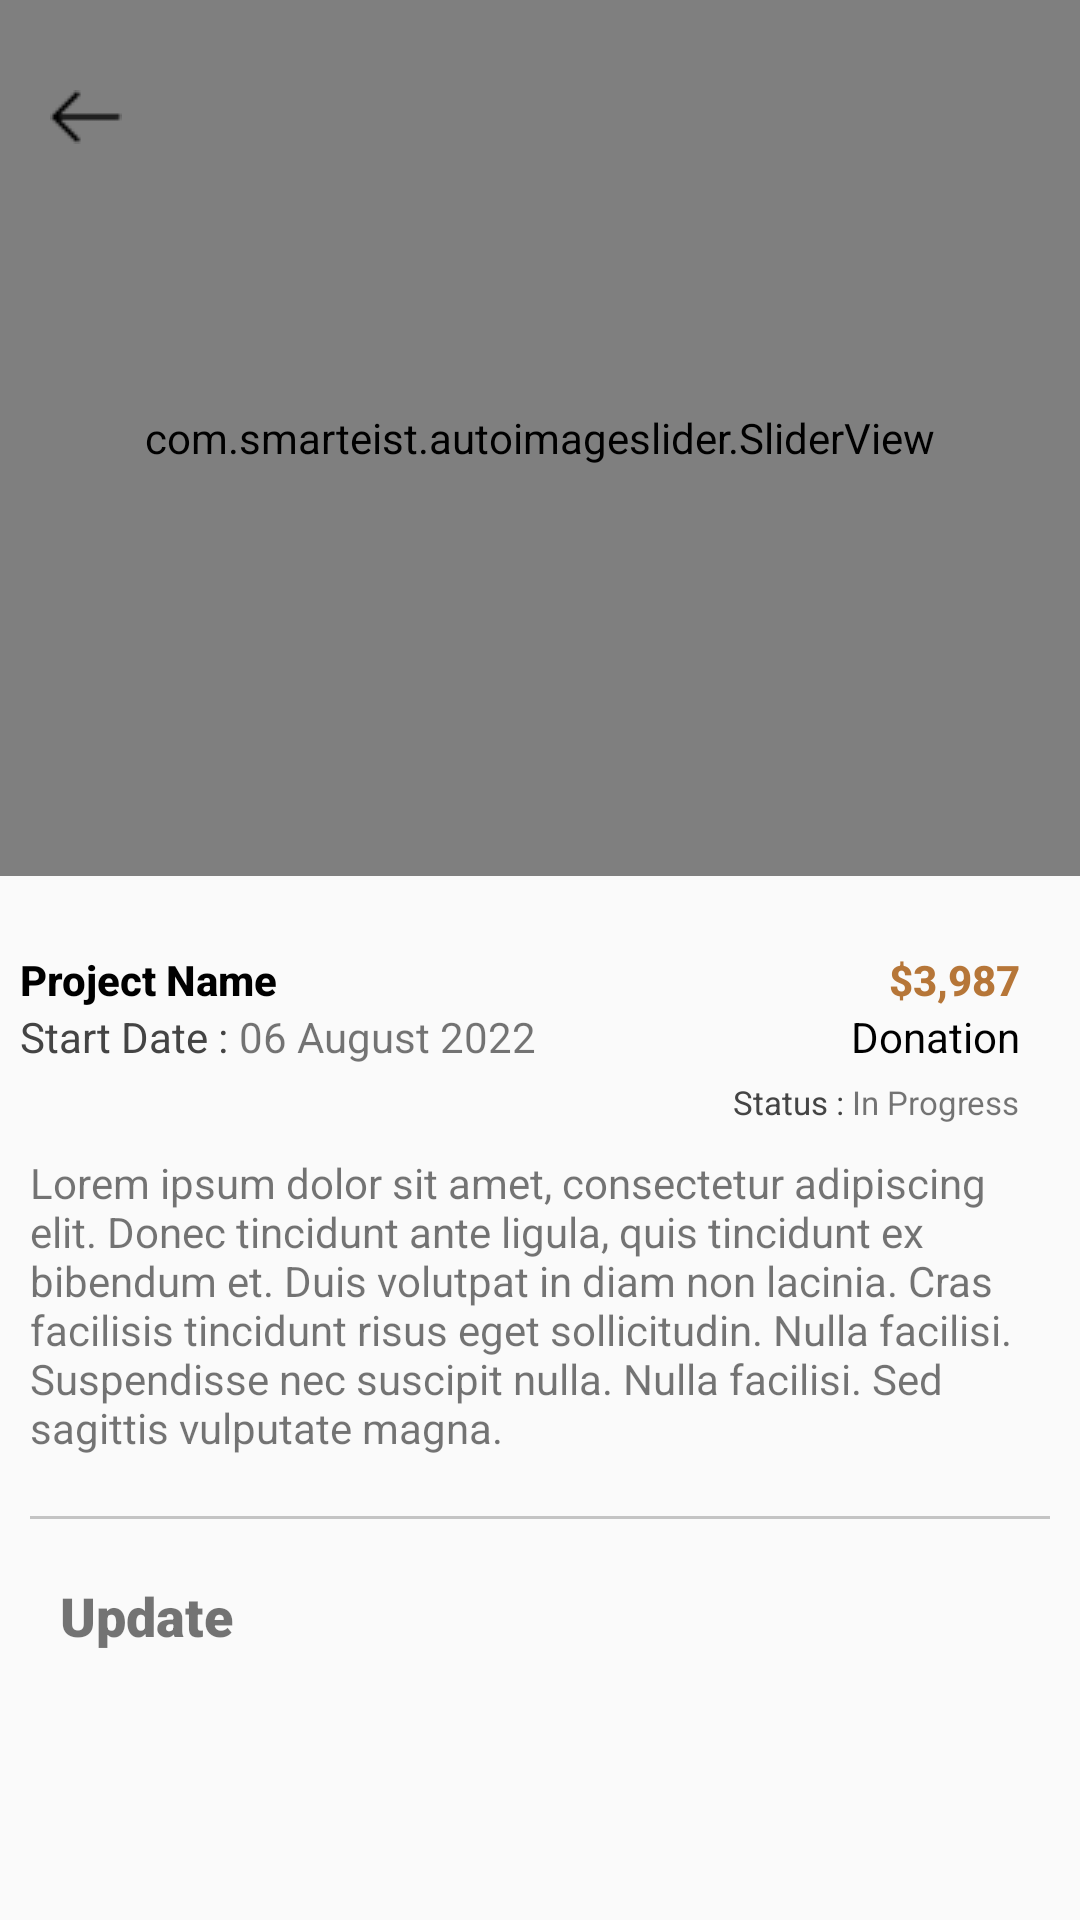

Icons on this 1080*1920 Android screen, each with its box as (x1, y1, x2, y2):
go back botton: (52, 92, 120, 142)
